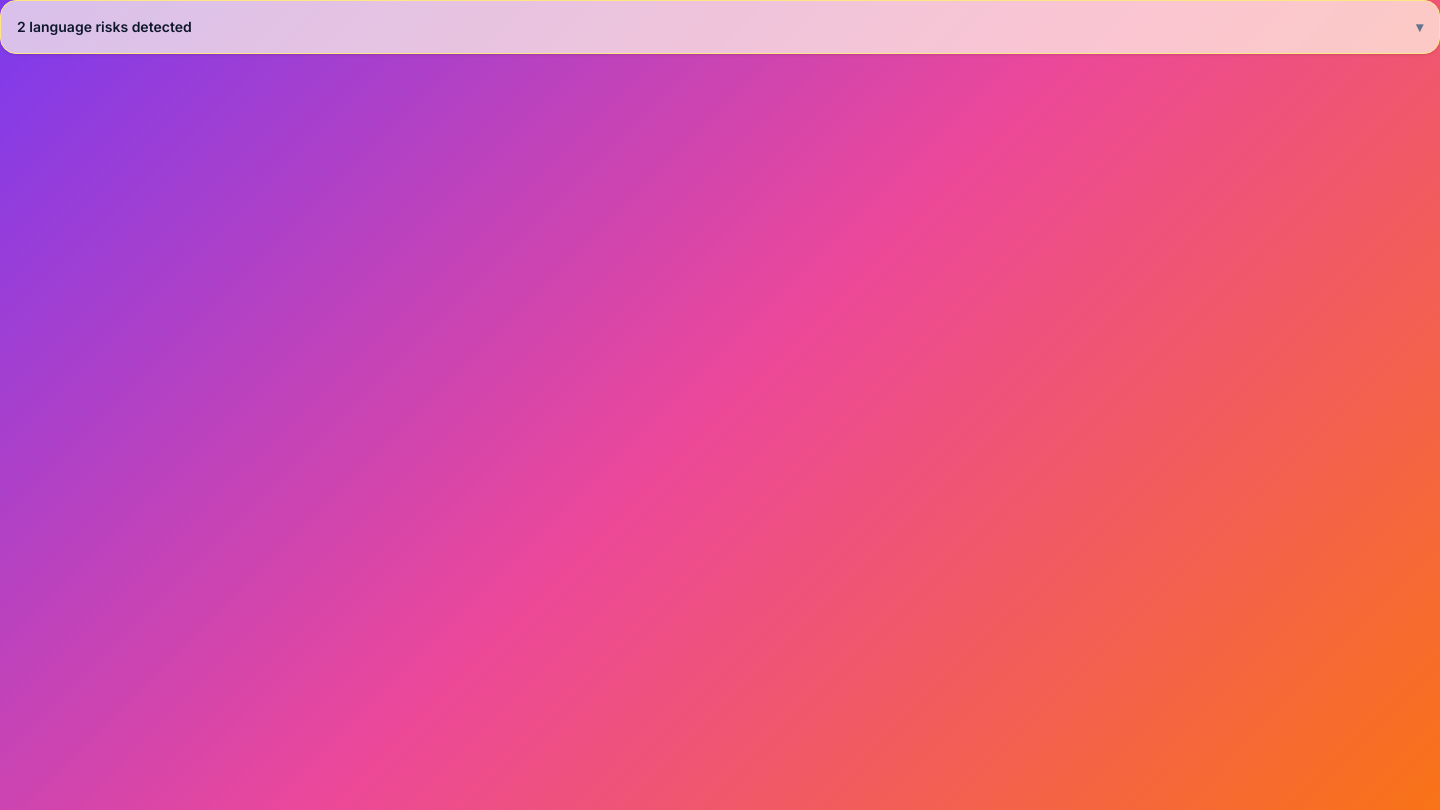
Scenario: TriggerList › renders a collapsed expandable list for medium risk
This screenshot has width=1440, height=810.
expect the text "Judgement wording" is not shown: met
Click the button "2 language risks detected ▾" at (104, 26), box x1=17 y1=17 x2=1423 y2=37
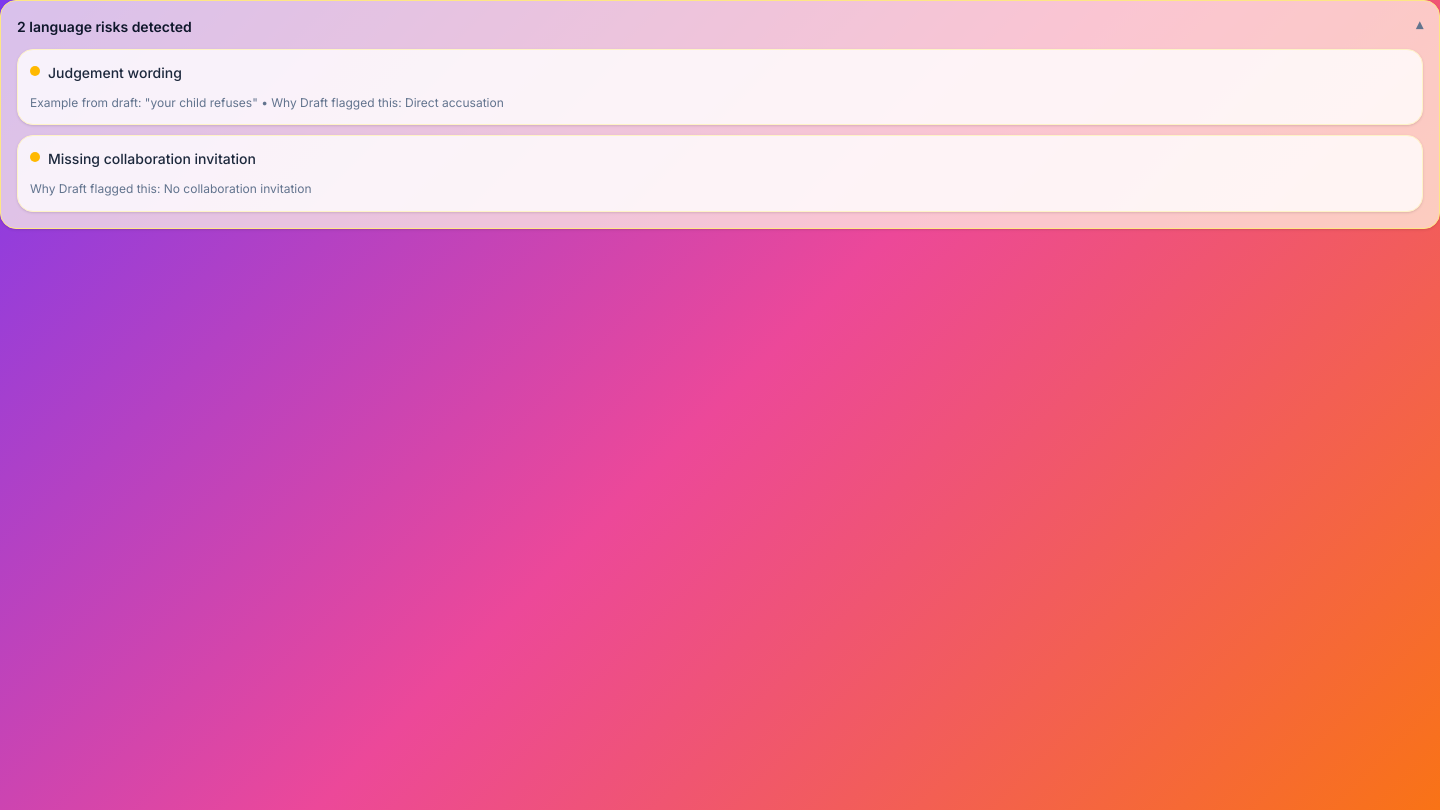
expect the text "Judgement wording" is shown: met, box x1=48 y1=62 x2=182 y2=85
expect the text "Missing collaboration invitation" is shown: met, box x1=48 y1=148 x2=256 y2=171
expect the text "Example from draft: \"your child refuses\" • Why Draft flagged this: Direct accusation" is shown: met, box x1=30 y1=95 x2=504 y2=110
